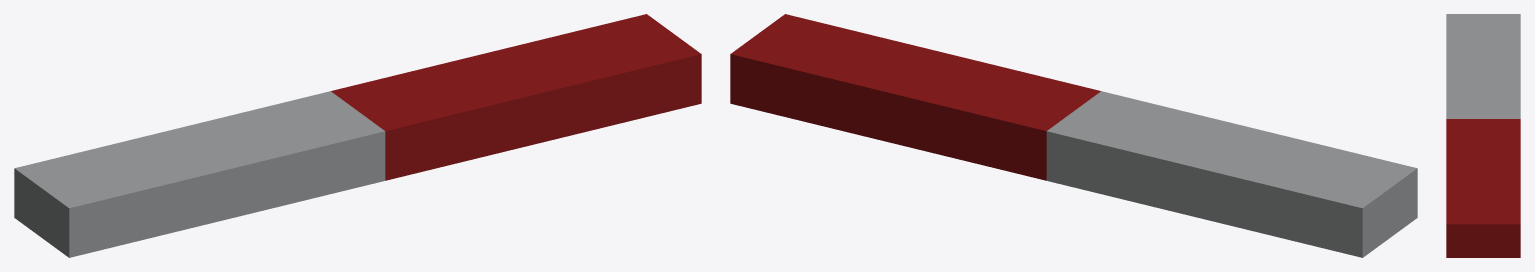
File: White_and_red.fbx
3 renders of one model, left to right at view 1: azimuth 30°, elevation 25°; view 2: azimuth 150°, elevation 25°; view 3: azimuth 270°, elevation 25°, orthographic. The views are drawn at different scales.
Visible parts, largest first — view 1: White_Red_Road_Curb; view 2: White_Red_Road_Curb; view 3: White_Red_Road_Curb.
Boxes of the visible parts, left/top/right/bottom form: White_Red_Road_Curb: left=14, top=14, right=701, bottom=257; White_Red_Road_Curb: left=730, top=14, right=1417, bottom=257; White_Red_Road_Curb: left=1446, top=14, right=1520, bottom=257.
Bounding box in the file's own units: 200 × 15 × 30.
